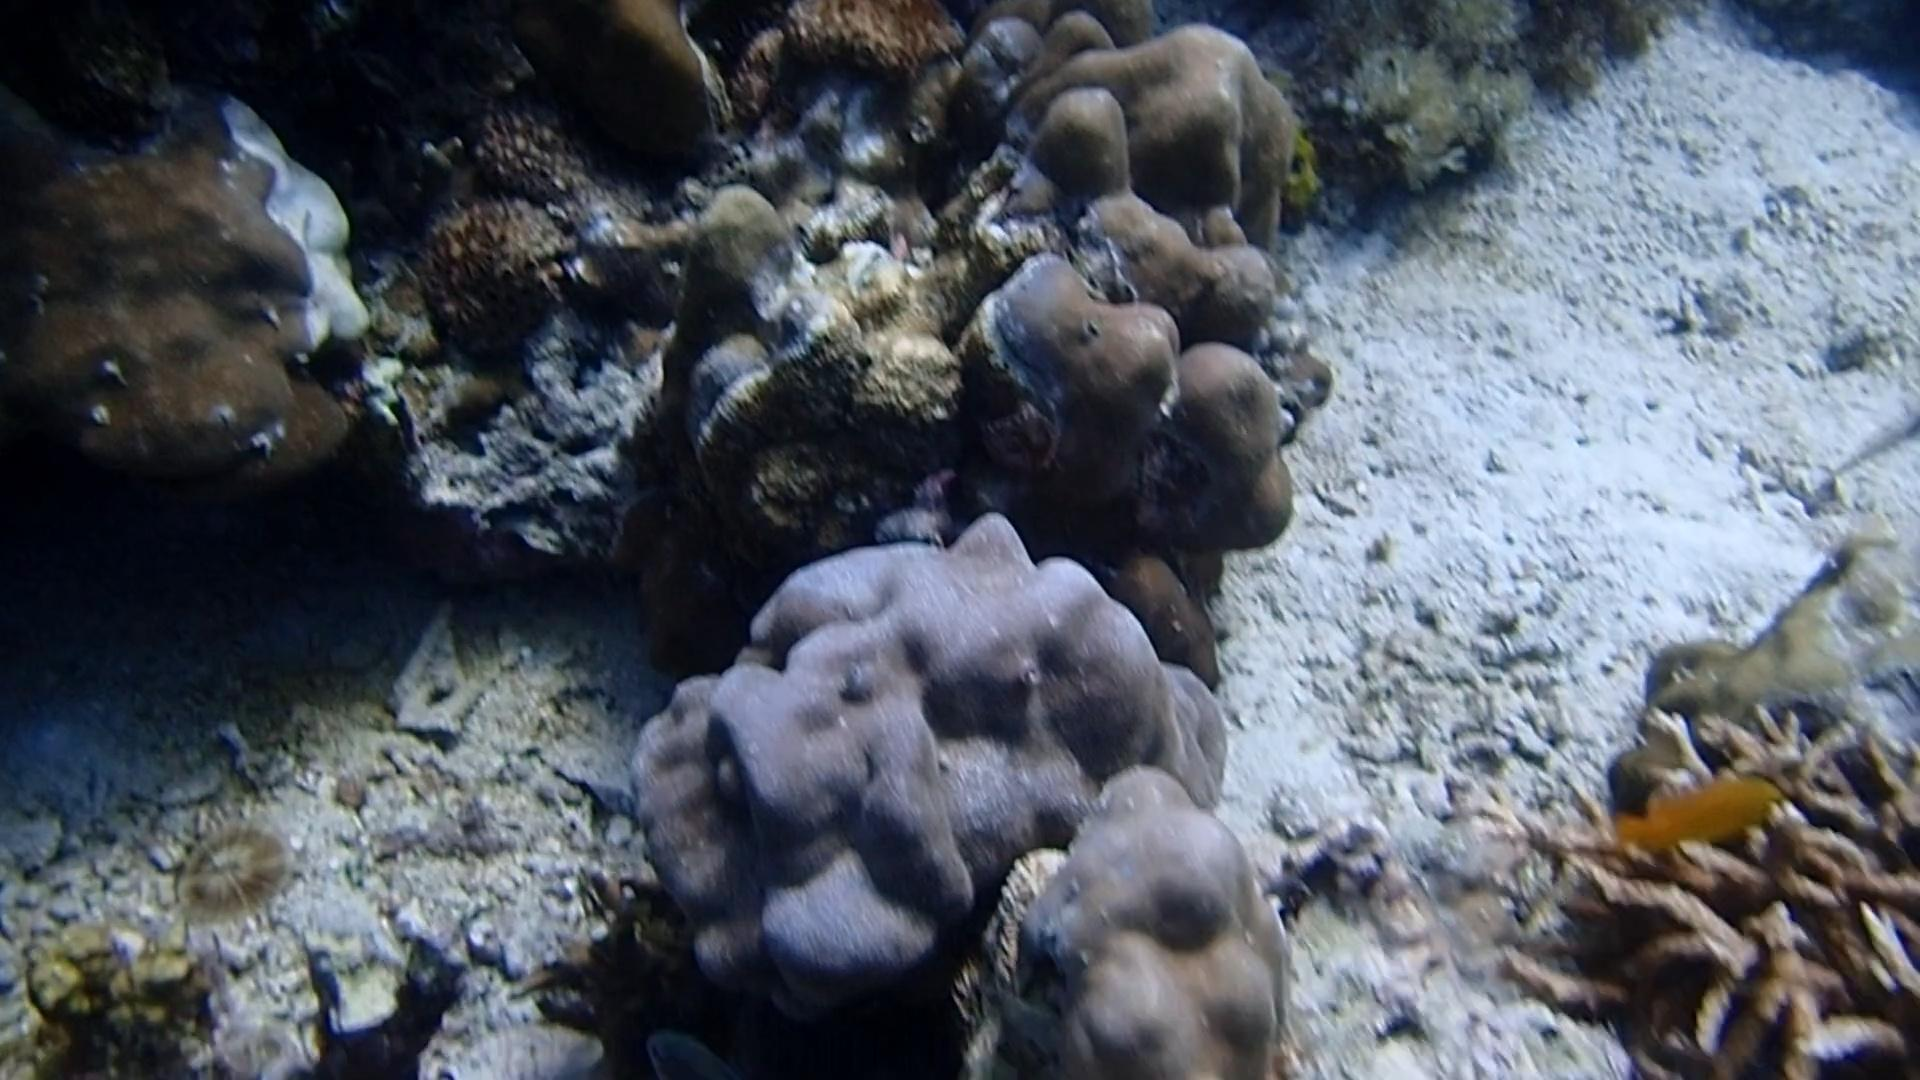Yellow Fish: (1589, 762, 1808, 862)
